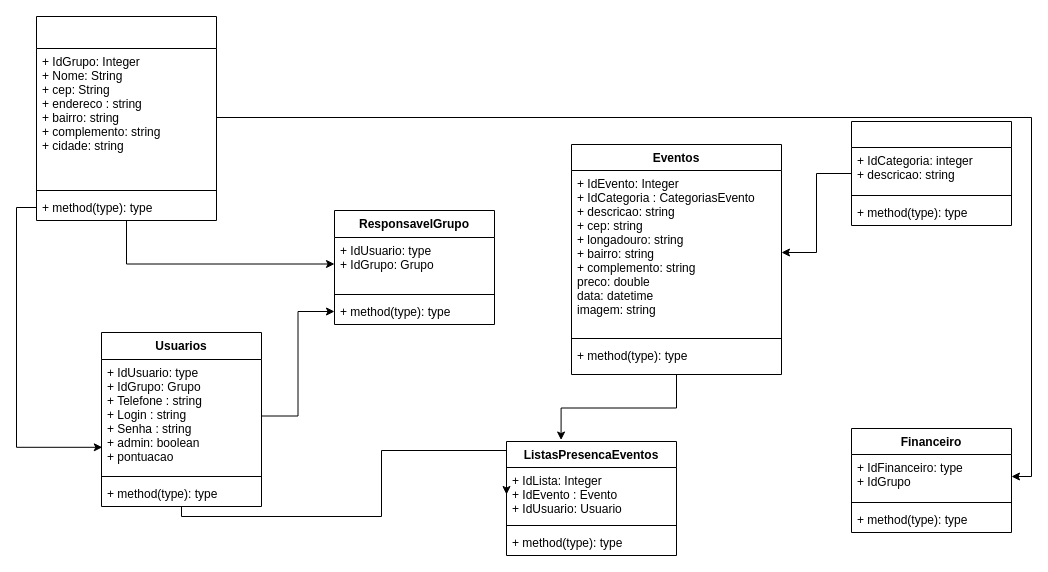
The diagram is 1048 pixels wide and 572 high, and some of its shapes have lost their labels. The shapes that lost their labels are listed below. From the top down, each one's box as (x1, y1, x2, y2) in pixels, then its label:
(36, 16, 216, 220): Grupos
(850, 120, 1012, 226): CategoriasEvento
